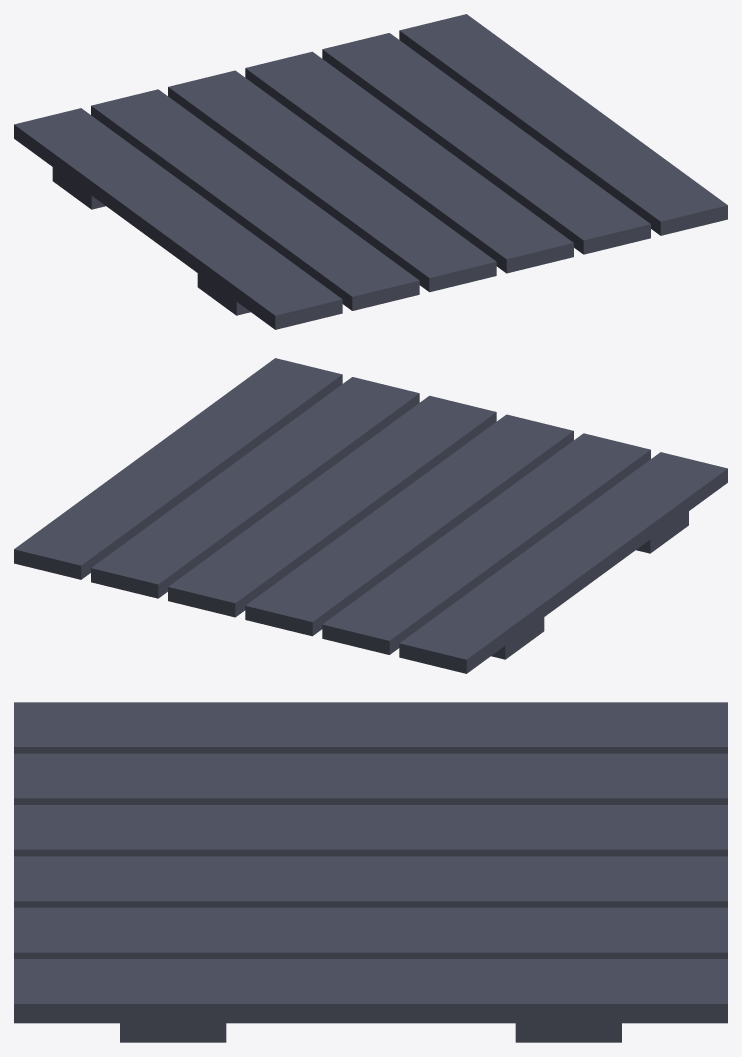
File: planks.glb
3 views of the same model, one above another, from view 1: azimuth 30°, elevation 25°; view 2: azimuth 150°, elevation 25°; view 3: azimuth 270°, elevation 25° (orthographic). The views are drawn at different scales.
Visible parts, largest first — view 1: planks; view 2: planks; view 3: planks.
Part boxes in pixels (left/top/right/bottom): planks: left=14, top=14, right=727, bottom=329; planks: left=14, top=358, right=727, bottom=673; planks: left=14, top=702, right=727, bottom=1042.
Size of the model in its own units: 1 by 0.06 by 1.
Materials: 1 (1 with a texture image).
